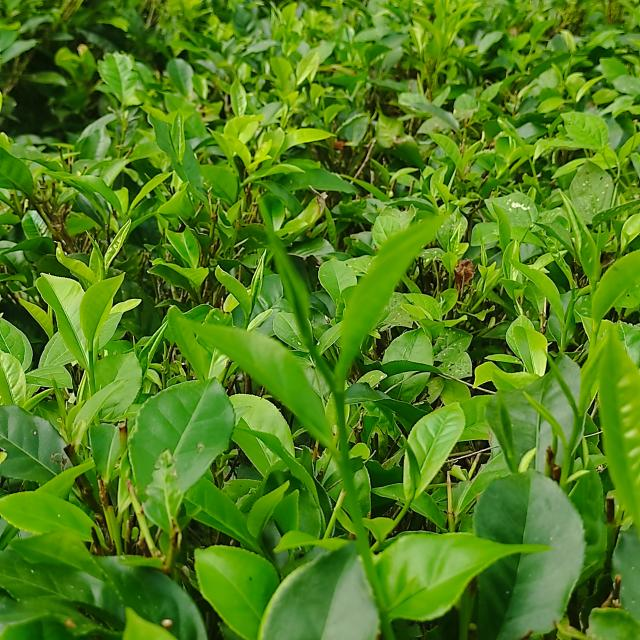unopened_leaf: (246, 179, 318, 361), (538, 347, 582, 421), (511, 387, 561, 446), (162, 118, 180, 158)
